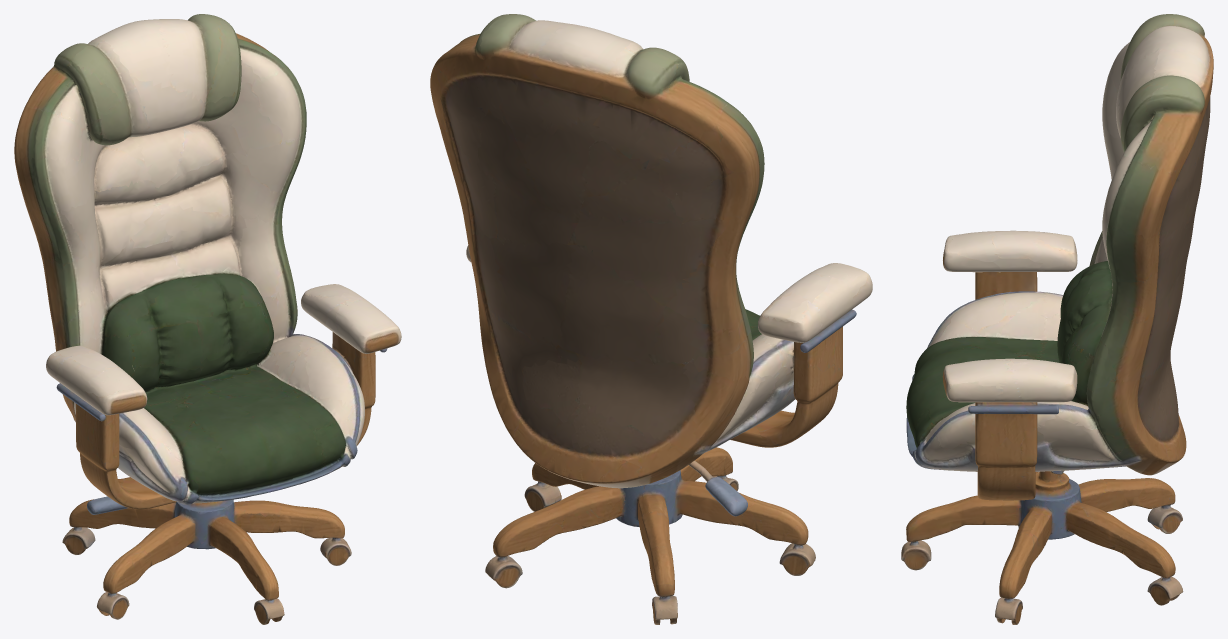
The model's file is gaming-chair.glb.
3 views of the same model, side by side, from view 1: azimuth 30°, elevation 25°; view 2: azimuth 150°, elevation 25°; view 3: azimuth 270°, elevation 25° (orthographic). The views are drawn at different scales.
Visible parts, largest first — view 1: mesh_node; view 2: mesh_node; view 3: mesh_node.
Boxes of the visible parts, x1=… form: mesh_node: x1=14, y1=14, x2=401, y2=624; mesh_node: x1=430, y1=14, x2=872, y2=624; mesh_node: x1=901, y1=14, x2=1213, y2=624.
Bounding box in the file's own units: 1.18 × 1.9 × 1.03.
1 material, 1 textured.
